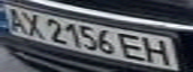1: (60, 20, 81, 47)
2: (39, 16, 66, 44)
5: (78, 24, 100, 52)
6: (97, 28, 118, 56)
A: (0, 7, 30, 34)
E: (118, 32, 151, 61)
H: (139, 36, 178, 66)
X: (18, 10, 48, 38)
